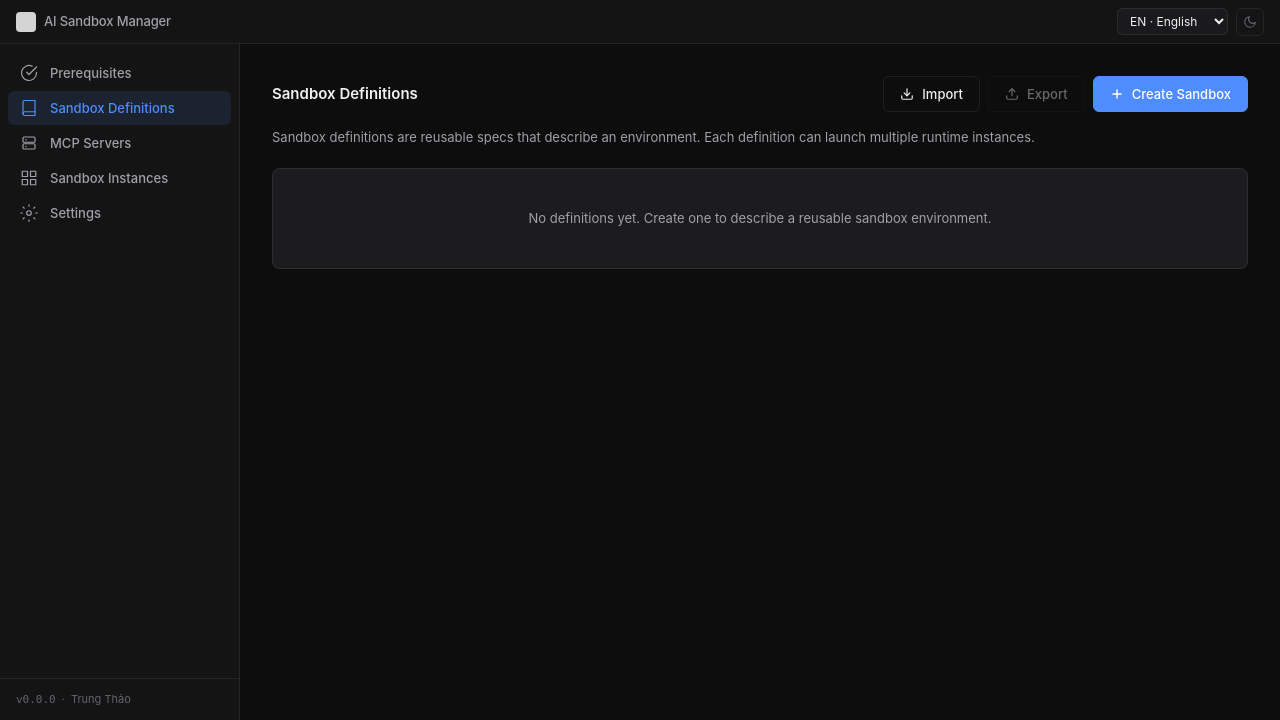
Test: App navigation › navigates to Instances
The width and height of the screenshot is (1280, 720).
Expected: the heading "Sandbox Definitions" is shown, [272, 83, 418, 105]
Step 1. Click the button "Sandbox Instances" → (120, 178), box [8, 161, 231, 195]
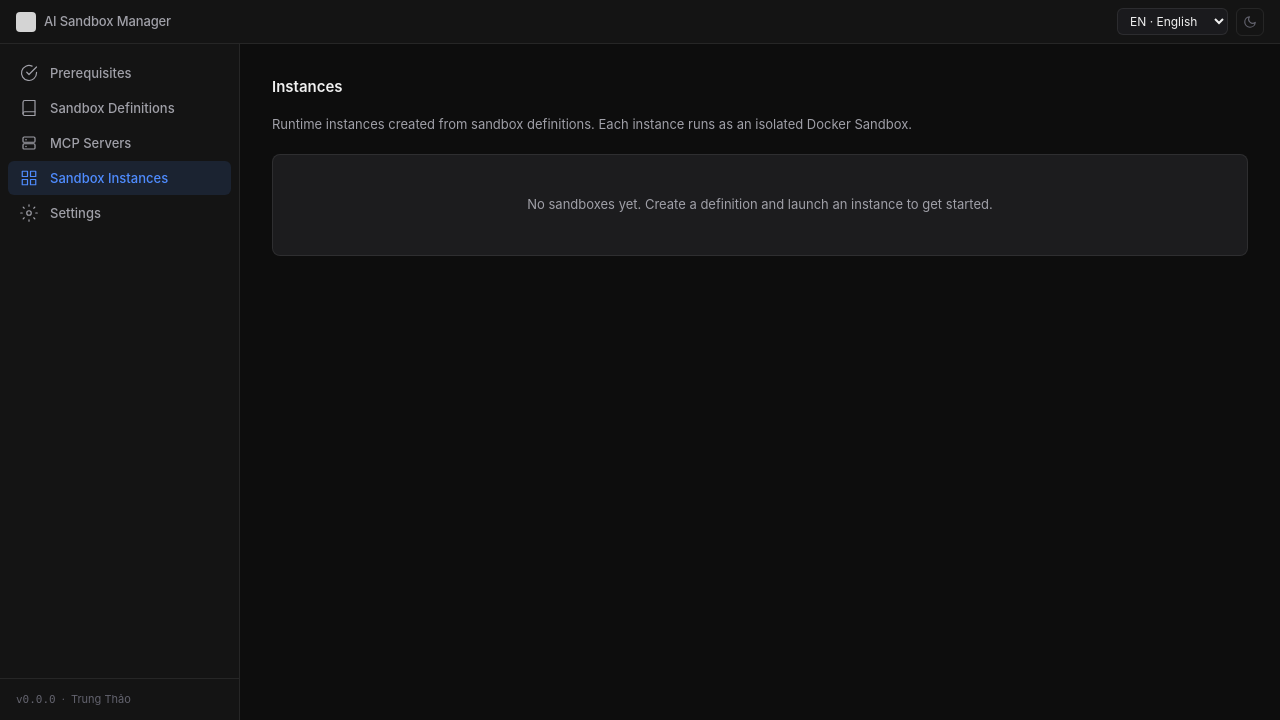
Expected: the heading "Instances" is shown, [272, 76, 343, 98]
